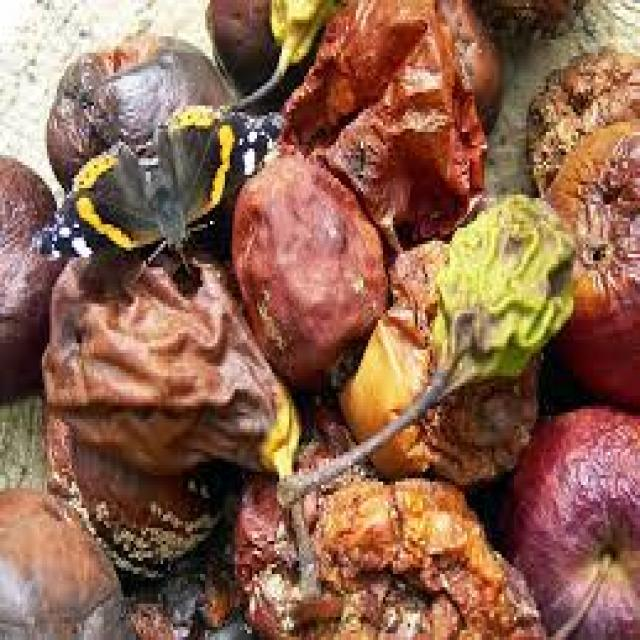organic waste: (277, 188, 571, 505), (42, 254, 299, 478), (282, 10, 484, 244), (302, 468, 546, 636), (230, 142, 383, 389), (230, 402, 380, 636), (37, 402, 222, 580), (504, 396, 638, 637), (42, 36, 235, 188), (544, 115, 638, 402), (0, 482, 126, 636), (0, 155, 67, 399), (526, 50, 638, 192), (123, 541, 250, 637), (227, 0, 336, 109), (205, 0, 299, 92), (447, 0, 502, 129), (464, 0, 586, 46)
